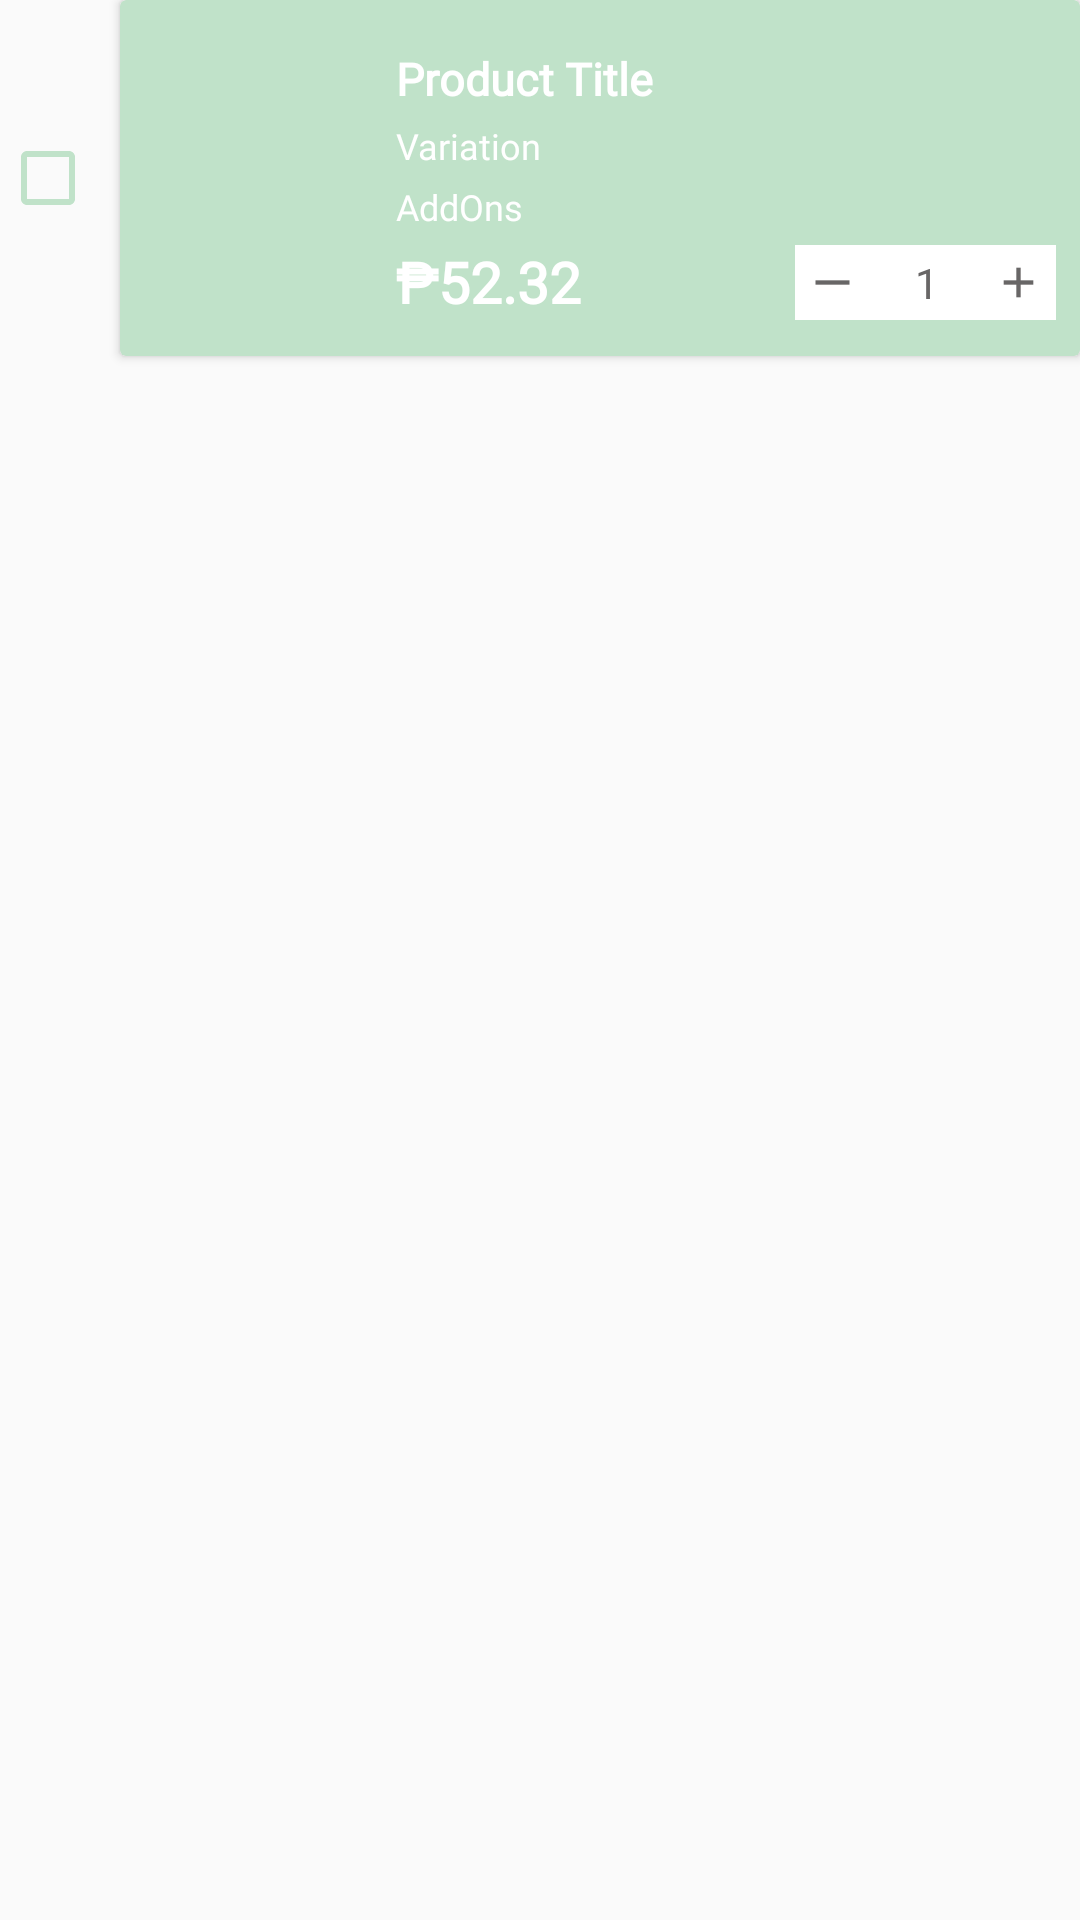

Where icons sit on this 1080*1920 app screen, as (x1, y1, x2, y2):
add: (981, 245, 1056, 320)
horizontal rule: (795, 245, 870, 320)
